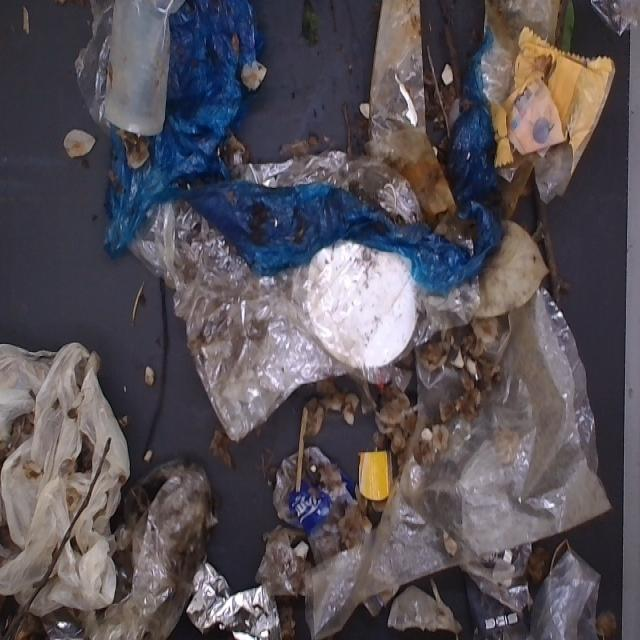food_packaging: (514, 23, 622, 206)
food_wrapping: (193, 565, 295, 640)
plastic_cups: (0, 332, 215, 640), (104, 0, 174, 137)
plastic_films: (116, 141, 545, 430), (395, 277, 615, 640), (364, 0, 464, 183), (266, 439, 368, 604), (474, 0, 565, 140)
undef_hard_plastic: (354, 450, 397, 512)
